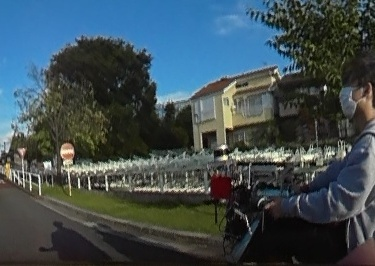person: (328, 56, 375, 266)
